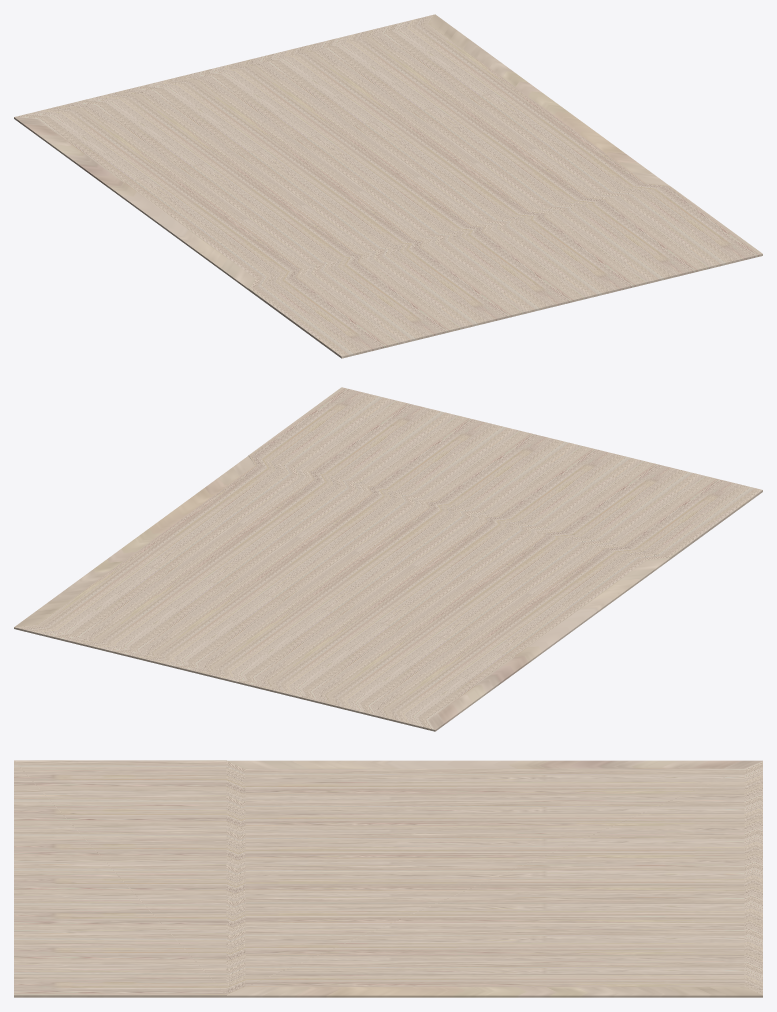
Rendered from twooo.fbx.
3 views of the same model, one above another, from view 1: azimuth 30°, elevation 25°; view 2: azimuth 150°, elevation 25°; view 3: azimuth 270°, elevation 25° (orthographic). The views are drawn at different scales.
Visible parts, largest first — view 1: livingroom_floor1, livingroom_floor; view 2: livingroom_floor1, livingroom_floor; view 3: livingroom_floor1, livingroom_floor.
Boxes of the visible parts, left/top/right/bottom form: livingroom_floor1: left=14, top=14, right=668, bottom=289; livingroom_floor: left=248, top=185, right=762, bottom=358; livingroom_floor1: left=14, top=455, right=669, bottom=731; livingroom_floor: left=248, top=387, right=762, bottom=559; livingroom_floor1: left=226, top=760, right=762, bottom=997; livingroom_floor: left=14, top=760, right=226, bottom=997.
Size of the model in its own units: 54.72 by 0.25 by 73.71.
